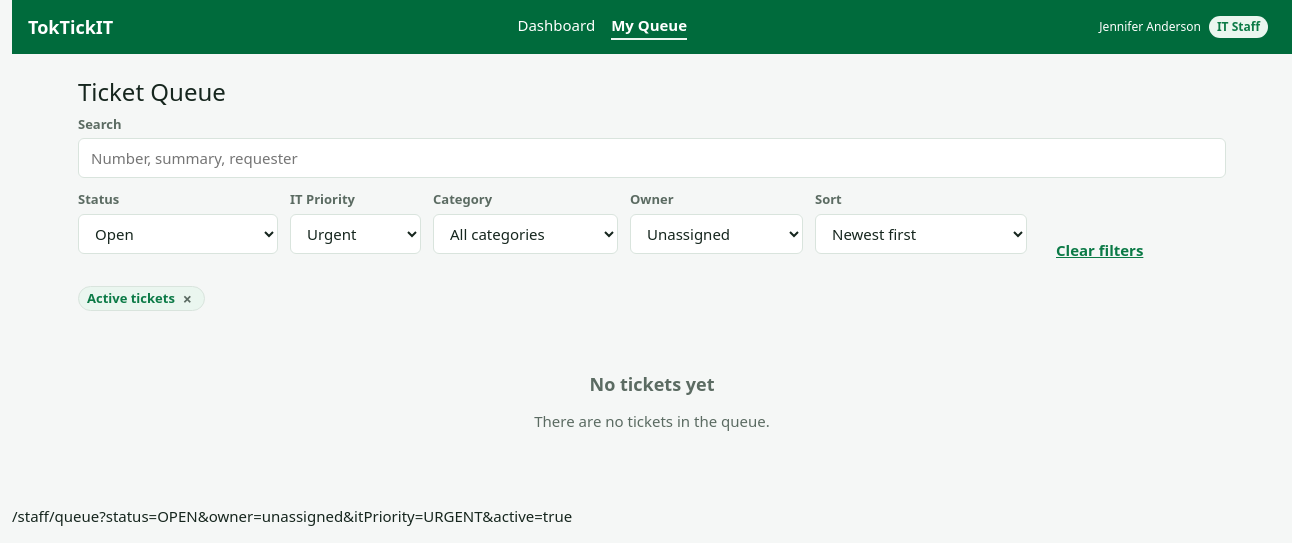
Shell, landing page and drill-down filters › UI-08: the Ticket Queue opens with status, owner, itPriority and active from the URL and Clear filters empties it
Expected: the dropdown labelled "Status" shows "Open", left=78, top=214, right=278, bottom=254
Expected: the dropdown labelled "IT Priority" shows "Urgent", left=290, top=214, right=421, bottom=254
Click the button "Clear filters". click: [1100, 250]
box: left=1039, top=230, right=1160, bottom=270
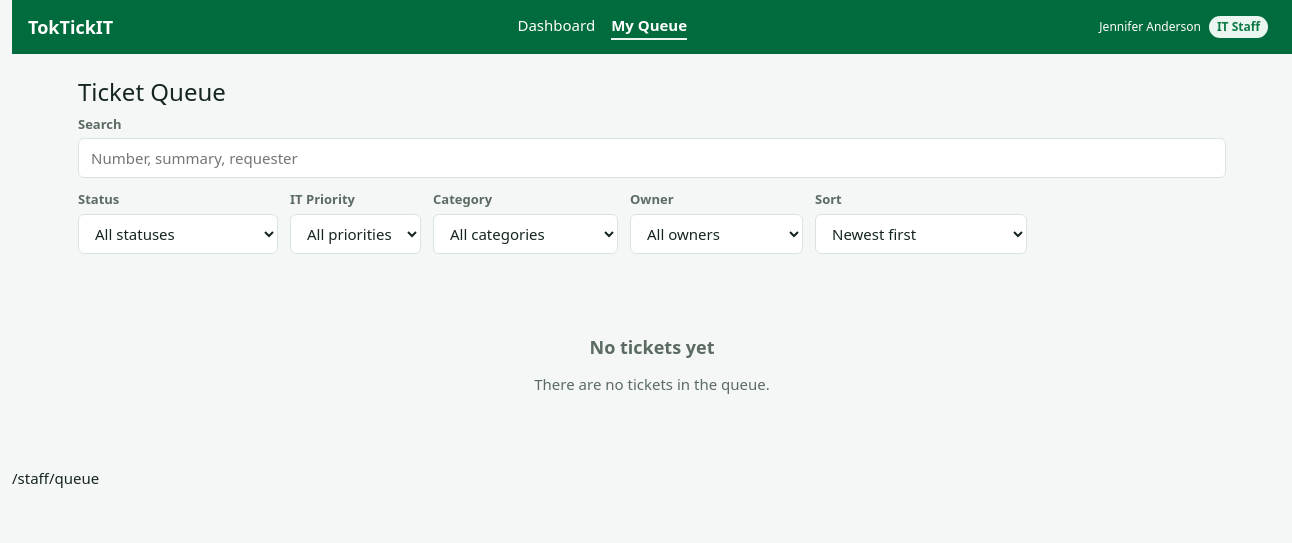
Result: the text with test id "where" reads "/staff/queue" at left=12, top=468, right=99, bottom=488
